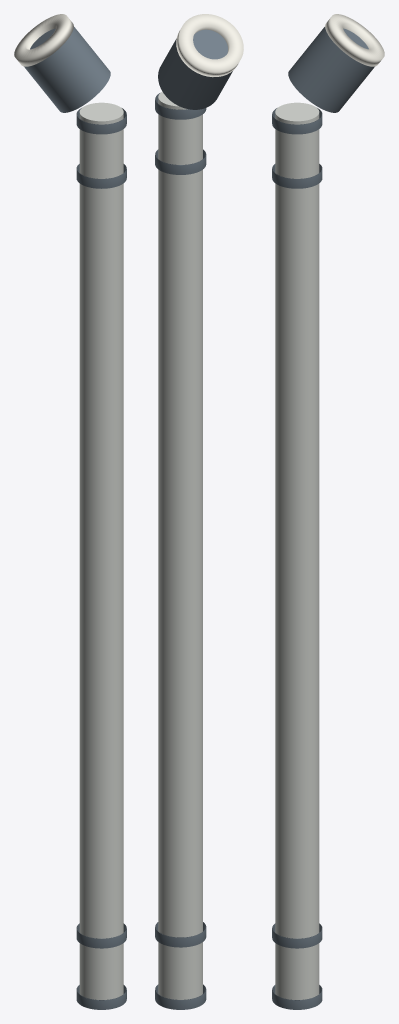
File: iss_canadarm2.base_roll.shoulder_pitch.elbow_pitch.glb
3 renders of one model, left to right at view 1: azimuth 90°, elevation 25°; view 2: azimuth 210°, elevation 25°; view 3: azimuth 270°, elevation 25°, orthographic.
Parts seen in each view (by area): view 1: iss_canadarm2.base_roll.shoulder_pitch.elbow_pitch.mesh_Pale, iss_canadarm2.base_roll.shoulder_pitch.elbow_pitch.wrist_pit (×2), iss_canadarm2.base_roll.shoulder_pitch.elbow_pitch.mesh_Mach; view 2: iss_canadarm2.base_roll.shoulder_pitch.elbow_pitch.mesh_Pale, iss_canadarm2.base_roll.shoulder_pitch.elbow_pitch.wrist_pit (×2), iss_canadarm2.base_roll.shoulder_pitch.elbow_pitch.mesh_Mach; view 3: iss_canadarm2.base_roll.shoulder_pitch.elbow_pitch.mesh_Pale, iss_canadarm2.base_roll.shoulder_pitch.elbow_pitch.wrist_pit (×2), iss_canadarm2.base_roll.shoulder_pitch.elbow_pitch.mesh_Mach.
Part boxes in pixels (left/top/right/bottom): iss_canadarm2.base_roll.shoulder_pitch.elbow_pitch.mesh_Pale: left=79, top=102, right=123, bottom=999; iss_canadarm2.base_roll.shoulder_pitch.elbow_pitch.wrist_pit (×2): left=14, top=14, right=110, bottom=112; iss_canadarm2.base_roll.shoulder_pitch.elbow_pitch.mesh_Mach: left=76, top=108, right=126, bottom=1009; iss_canadarm2.base_roll.shoulder_pitch.elbow_pitch.mesh_Pale: left=158, top=91, right=202, bottom=999; iss_canadarm2.base_roll.shoulder_pitch.elbow_pitch.wrist_pit (×2): left=158, top=14, right=243, bottom=109; iss_canadarm2.base_roll.shoulder_pitch.elbow_pitch.mesh_Mach: left=155, top=93, right=206, bottom=1009; iss_canadarm2.base_roll.shoulder_pitch.elbow_pitch.mesh_Pale: left=275, top=102, right=319, bottom=999; iss_canadarm2.base_roll.shoulder_pitch.elbow_pitch.wrist_pit (×2): left=288, top=14, right=384, bottom=112; iss_canadarm2.base_roll.shoulder_pitch.elbow_pitch.mesh_Mach: left=272, top=108, right=322, bottom=1009.
Bounding box in the file's own units: 0.51 × 8.31 × 0.8645.
